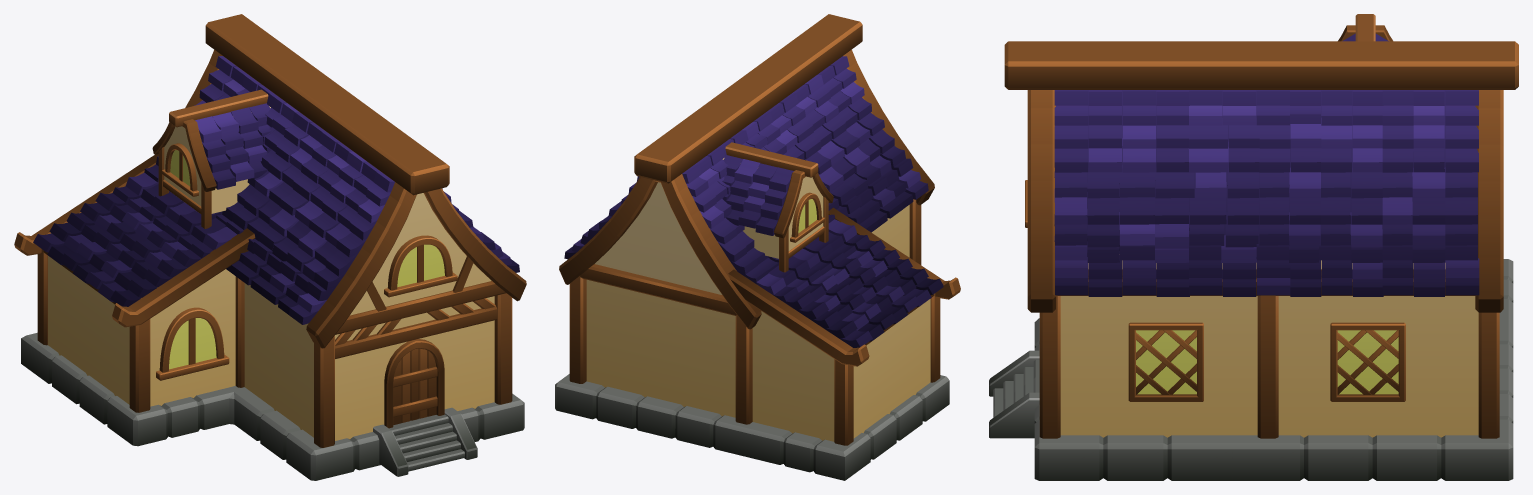
File: Est-Medi-2.fbx
The picture shows the model from 3 angles, left to right: view 1: azimuth 30°, elevation 25°; view 2: azimuth 150°, elevation 25°; view 3: azimuth 270°, elevation 25°; orthographic projection. The views are drawn at different scales.
Parts seen in each view (by area): view 1: Est-Medi-2; view 2: Est-Medi-2; view 3: Est-Medi-2.
Part boxes in pixels (x1,y1,x2,y2): Est-Medi-2: (14, 14, 526, 480); Est-Medi-2: (555, 14, 960, 480); Est-Medi-2: (989, 14, 1518, 480).
Bounding box in the file's own units: 1157 × 999 × 1313.
